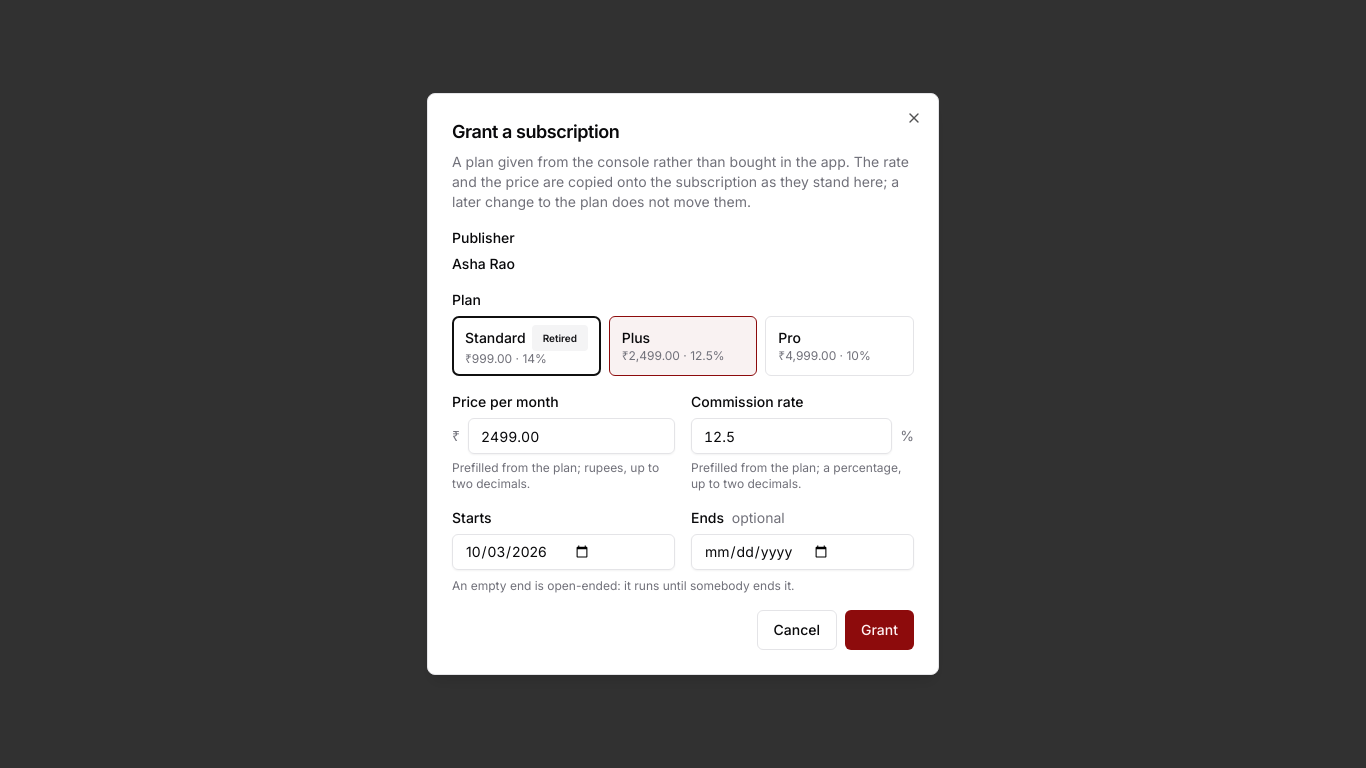
Test: the prefill › starts on the first active plan with its price and rate, and follows the tier that is picked
Check: the field labelled "Price per month" holds "2499.00", box [468,418,675,454]
Check: the field labelled "Commission rate" holds "12.5", box [691,418,892,454]
Click the radio button labelled "Pro ₹4,999.00 · 10%" at (840, 346), box [765,316,914,376]
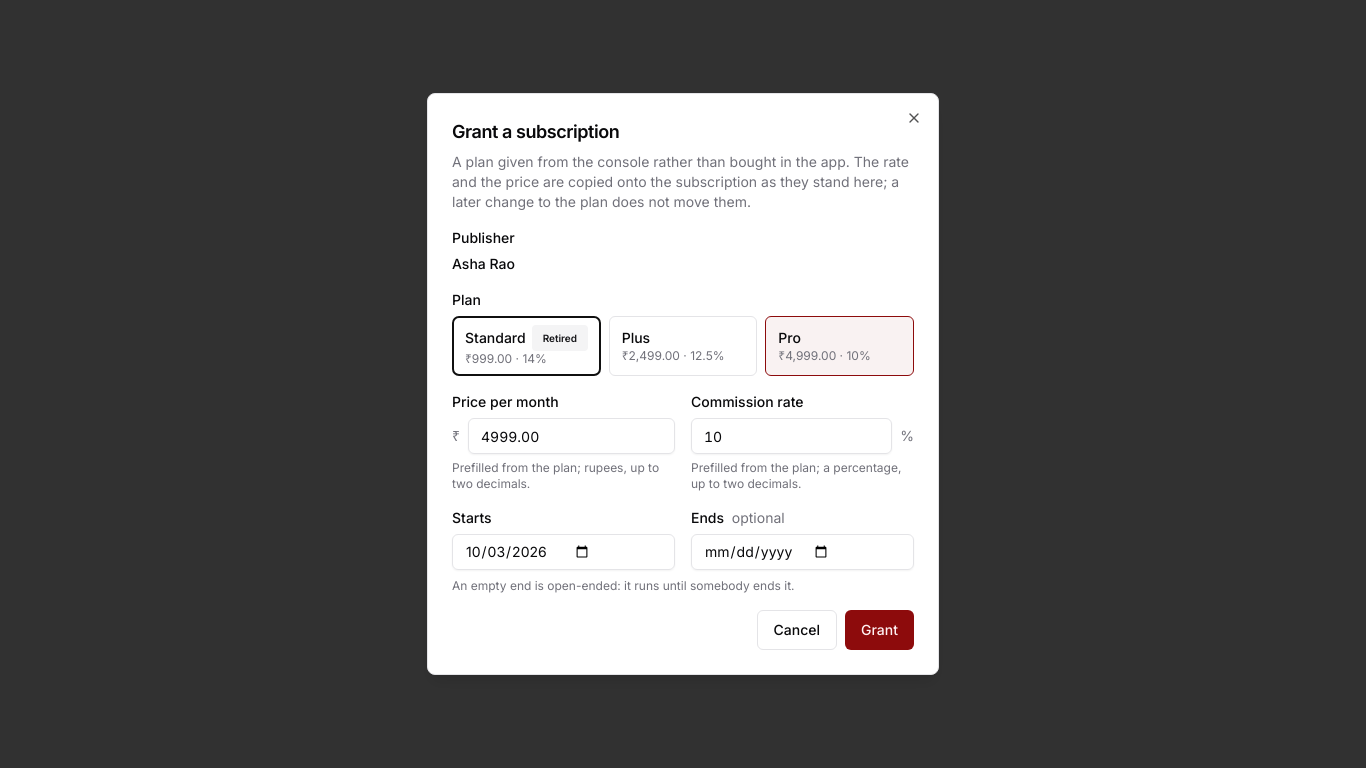
Check: the field labelled "Price per month" holds "4999.00", box [468,418,675,454]
Check: the field labelled "Commission rate" holds "10", box [691,418,892,454]
